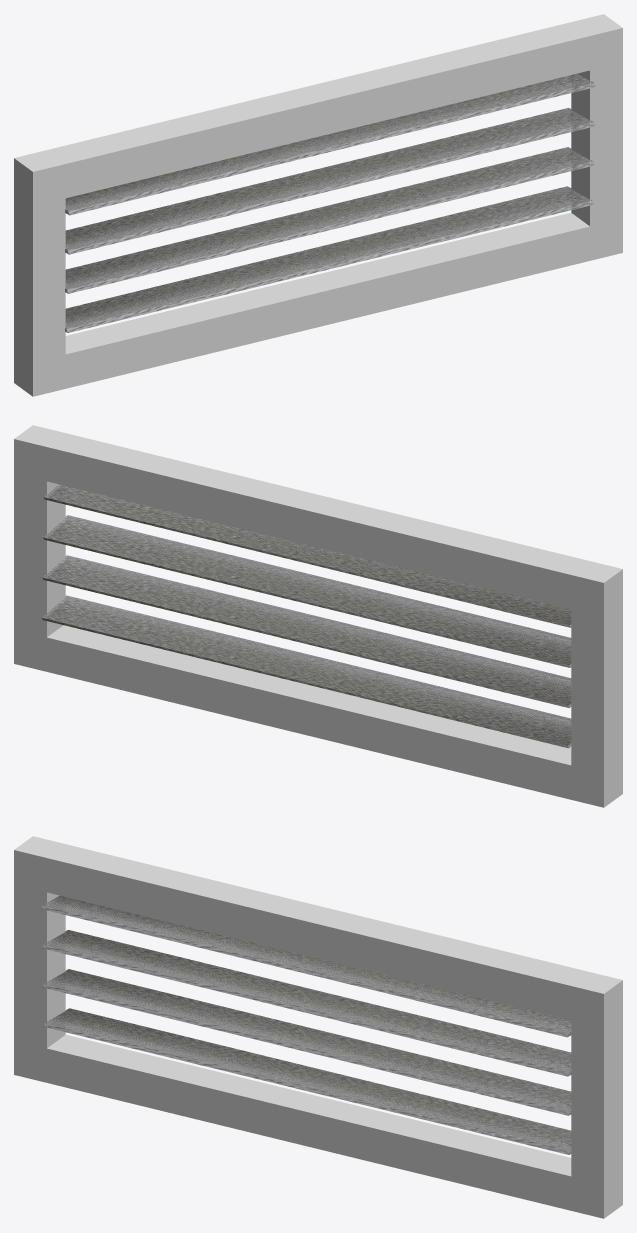
The model's file is Window.fbx.
The picture shows the model from 3 angles, top to bottom: view 1: azimuth 30°, elevation 25°; view 2: azimuth 150°, elevation 25°; view 3: azimuth 330°, elevation 25°; orthographic projection.
Parts seen in each view (by area): view 1: Window Frame, WindowGlass; view 2: Window Frame, WindowGlass; view 3: Window Frame, WindowGlass.
Part boxes in pixels (left/top/right/bottom): Window Frame: left=14, top=14, right=622, bottom=396; WindowGlass: left=65, top=73, right=595, bottom=332; Window Frame: left=14, top=425, right=622, bottom=807; WindowGlass: left=41, top=484, right=571, bottom=748; Window Frame: left=14, top=836, right=622, bottom=1218; WindowGlass: left=41, top=895, right=571, bottom=1154.
Size of the model in its own units: 547 by 199 by 45.32.
